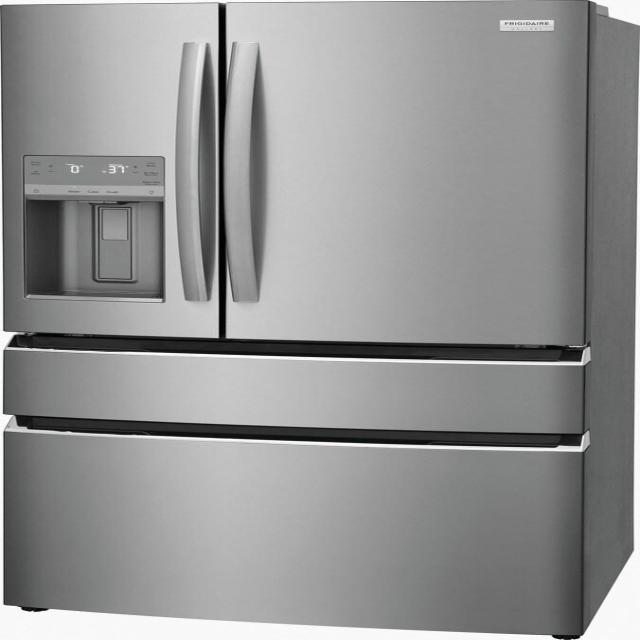obstacle: (1, 0, 636, 638)
